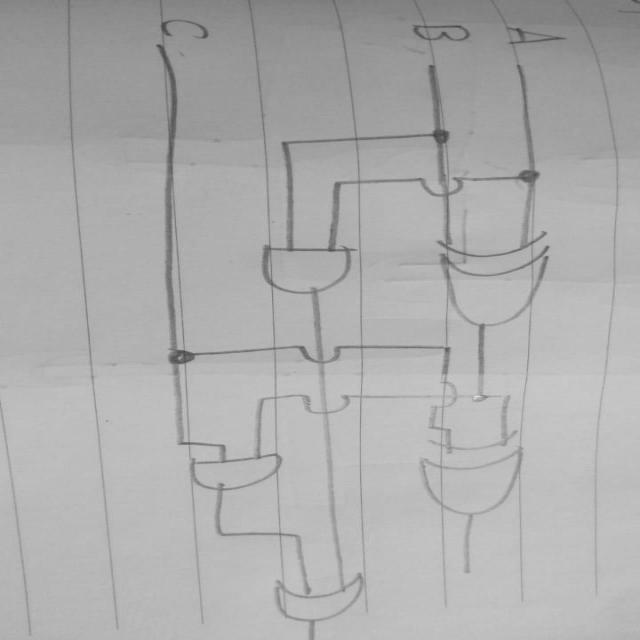AND: (240, 234, 371, 301), (171, 454, 303, 497)
OR: (256, 573, 383, 632)
XOR: (414, 430, 556, 532), (431, 226, 565, 332)
